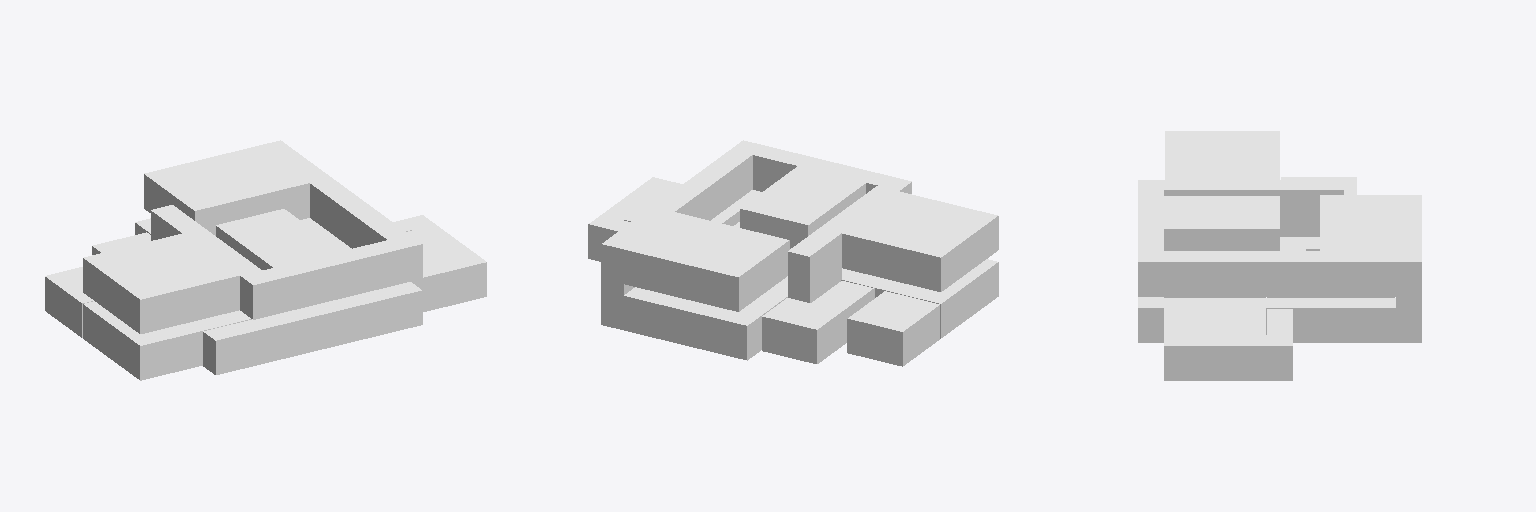
The model's file is Level_Mesh.obj.
3 renders of one model, left to right at view 1: azimuth 30°, elevation 25°; view 2: azimuth 150°, elevation 25°; view 3: azimuth 270°, elevation 25°, orthographic.
Visible parts, largest first — view 1: Concrete pattern 03, Concrete pattern 01; view 2: Concrete pattern 01, Concrete pattern 03; view 3: Concrete pattern 01, Concrete pattern 03.
Boxes of the visible parts, box(x1,y1,x2,y2) form: Concrete pattern 03: box(83, 174, 486, 380); Concrete pattern 01: box(45, 140, 485, 345); Concrete pattern 01: box(589, 140, 997, 366); Concrete pattern 03: box(588, 155, 998, 363); Concrete pattern 01: box(1138, 131, 1421, 345); Concrete pattern 03: box(1138, 190, 1421, 380).
Size of the model in its own units: 31.3 by 7 by 22.2.